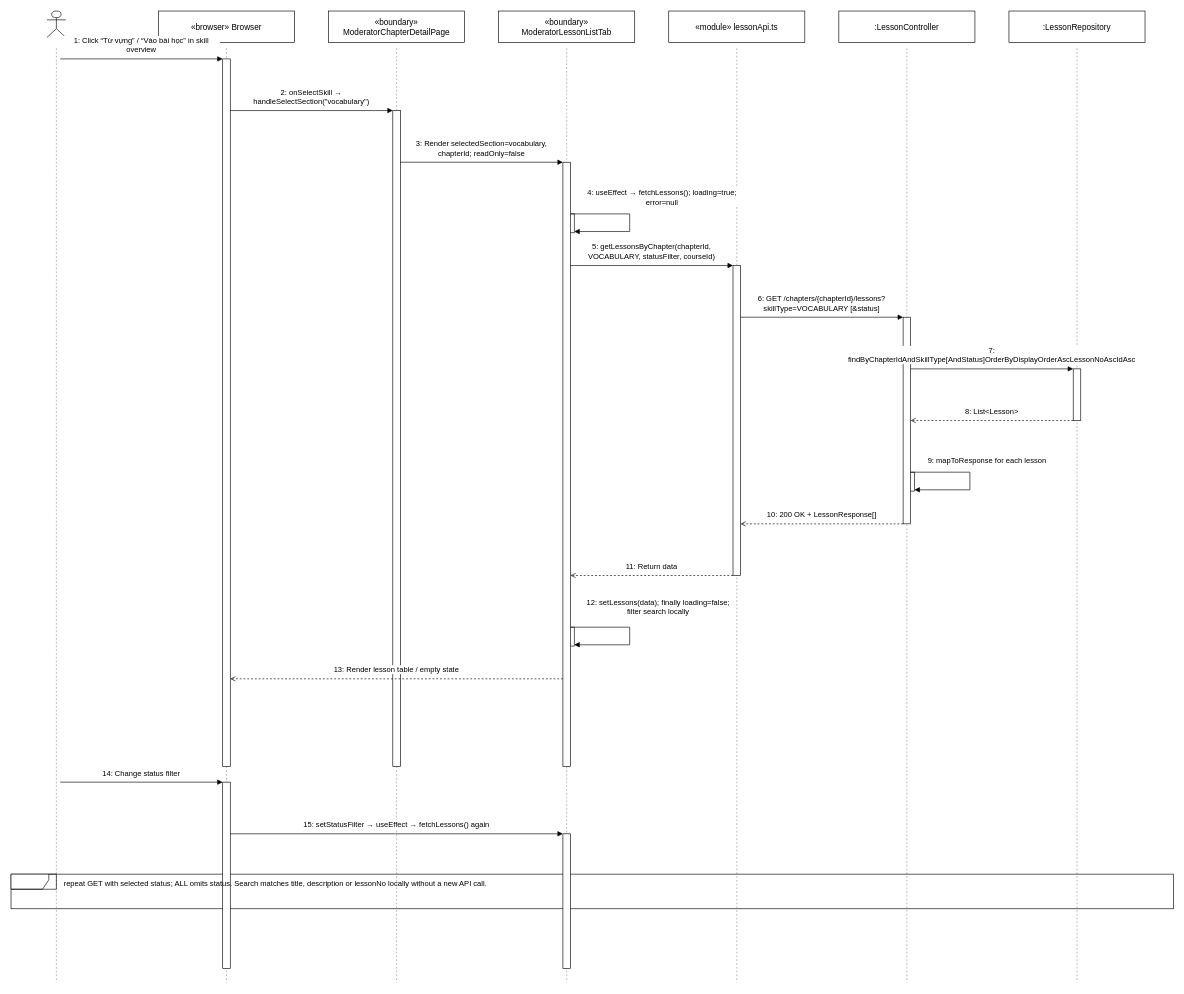
The diagram is 1184 pixels wide and 994 high, and some of its shapes have lost their labels. Here are the shapes that lost their labels. From the top down, the centre of each, then its label:
[56,23]: Moderator
[33,881]: ref
